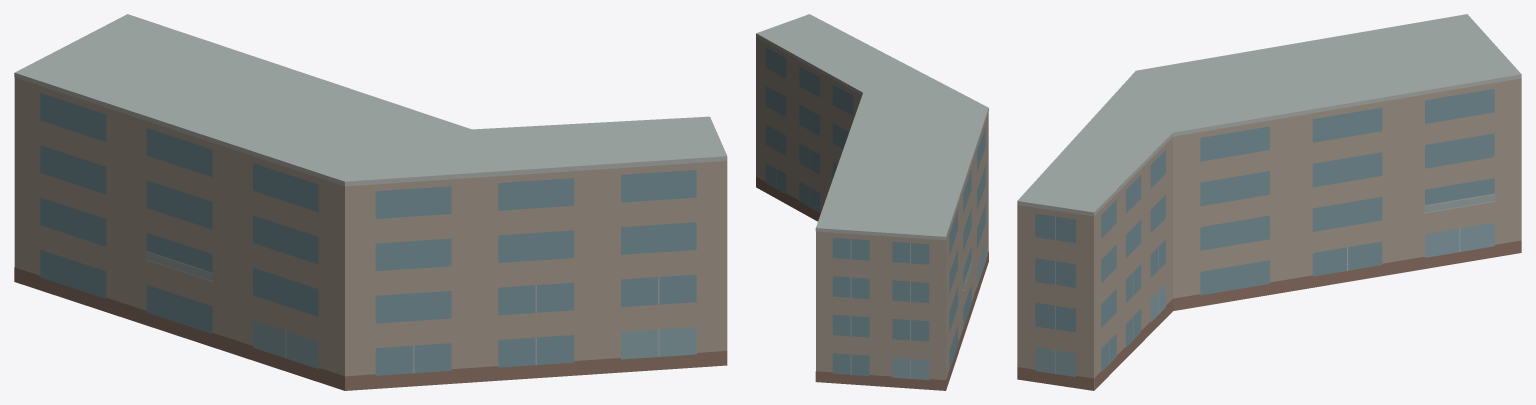
The model's file is survey-upis-33039971.glb.
3 renders of one model, left to right at view 1: azimuth 30°, elevation 25°; view 2: azimuth 150°, elevation 25°; view 3: azimuth 270°, elevation 25°, orthographic. The views are drawn at different scales.
Visible parts, largest first — view 1: survey-upis-33039971.tmp; view 2: survey-upis-33039971.tmp; view 3: survey-upis-33039971.tmp.
Part boxes in pixels (bbox=[...]): survey-upis-33039971.tmp: bbox=[14, 14, 727, 390]; survey-upis-33039971.tmp: bbox=[756, 14, 988, 390]; survey-upis-33039971.tmp: bbox=[1017, 14, 1521, 390].
Size of the model in its own units: 25.76 by 10.8 by 27.68.
